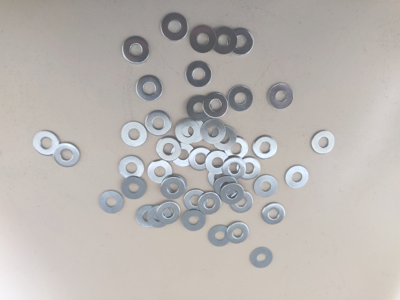circle: (122, 36, 150, 64), (190, 25, 217, 54), (162, 13, 189, 41), (136, 76, 163, 102), (228, 28, 254, 55), (33, 131, 61, 156), (186, 62, 212, 88), (54, 143, 81, 168), (213, 27, 237, 55), (122, 122, 148, 147), (146, 111, 172, 136), (229, 86, 254, 112), (204, 93, 229, 119), (269, 84, 294, 109), (187, 96, 212, 121), (253, 135, 278, 160), (176, 119, 201, 144), (201, 119, 226, 144), (212, 126, 237, 151), (311, 130, 335, 155), (148, 160, 173, 184), (208, 166, 233, 190), (119, 156, 145, 179), (285, 165, 309, 189), (172, 143, 196, 167), (225, 136, 249, 160), (223, 156, 247, 180), (237, 157, 261, 181), (99, 191, 124, 214), (122, 177, 147, 200), (162, 175, 187, 198), (157, 138, 182, 161), (181, 121, 206, 144), (148, 205, 172, 228), (189, 147, 212, 171), (198, 192, 222, 215), (206, 152, 230, 175), (230, 191, 254, 214), (161, 178, 186, 200), (255, 175, 278, 198), (136, 205, 159, 228), (157, 202, 181, 224), (184, 190, 208, 212), (220, 184, 245, 205), (263, 203, 286, 225), (227, 222, 250, 244), (208, 225, 231, 247), (183, 210, 206, 232), (250, 248, 273, 269), (214, 177, 238, 197)
